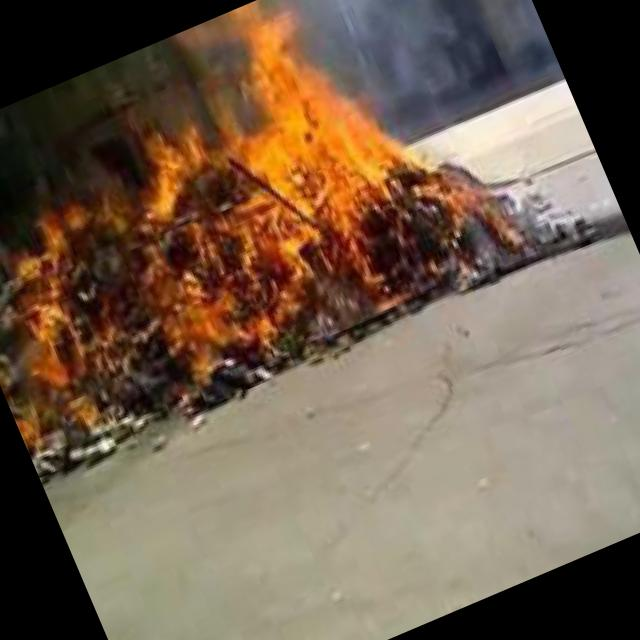fire: (0, 0, 481, 472)
smoke: (346, 0, 567, 143)
